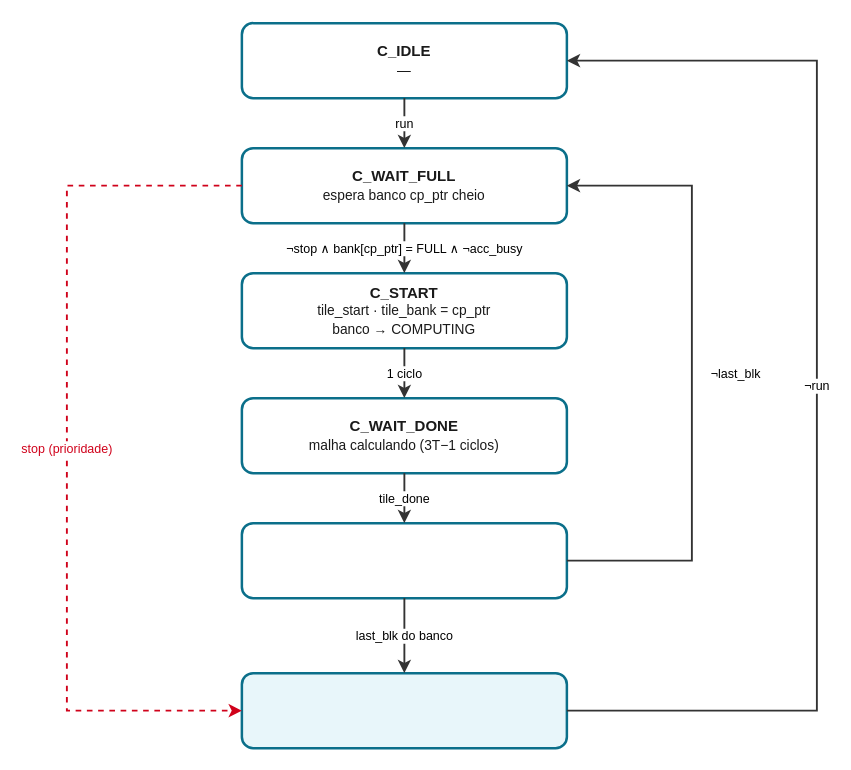
Some shapes in this 851 by 770 pixel diagram are drawn without their labels. Each missing label, with the centre of its shape:
"C_END compute_end = 1" goes at pixel 404 710.
"C_FREE banco → EMPTY · cp_ptr ^= PINGPONG" goes at pixel 404 560.
